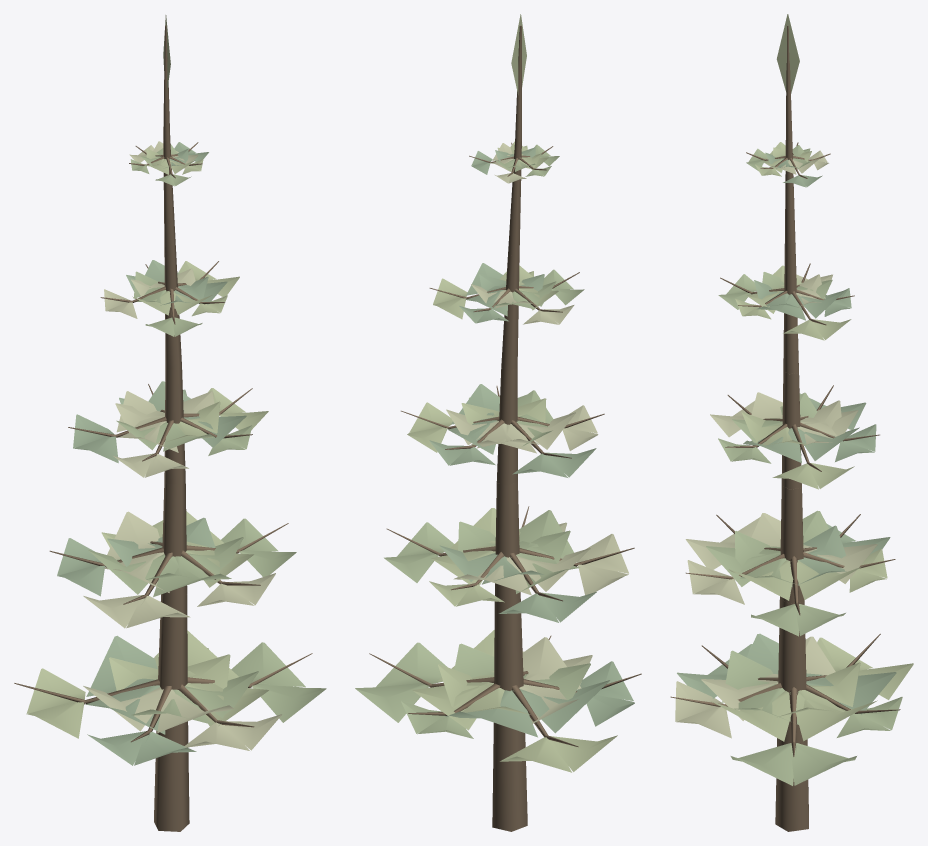
File: silver-fir-far.glb
3 renders of one model, left to right at view 1: azimuth 30°, elevation 25°; view 2: azimuth 150°, elevation 25°; view 3: azimuth 270°, elevation 25°, orthographic.
Visible parts, largest first — view 1: Crown_Foliage, Trunk_Wood; view 2: Crown_Foliage, Trunk_Wood; view 3: Crown_Foliage, Trunk_Wood.
Part boxes in pixels (bbox=[...]): Crown_Foliage: bbox=[26, 15, 326, 765]; Trunk_Wood: bbox=[14, 25, 312, 831]; Crown_Foliage: bbox=[355, 14, 634, 772]; Trunk_Wood: bbox=[369, 25, 641, 831]; Crown_Foliage: bbox=[675, 14, 913, 785]; Trunk_Wood: bbox=[670, 26, 900, 831].
Bounding box in the file's own units: 5.85 × 17.25 × 4.72.
